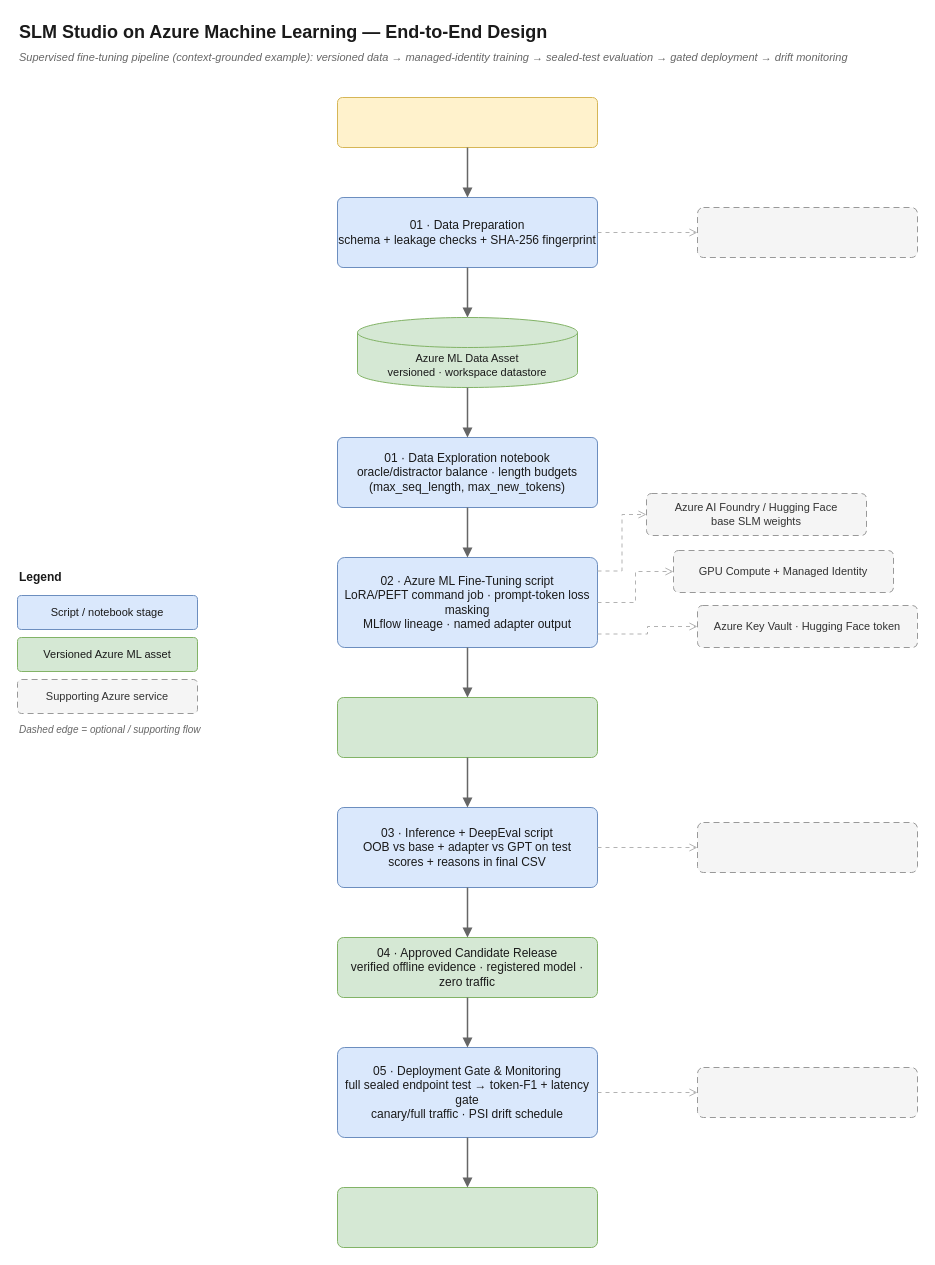
Some shapes in this 935 by 1265 pixel diagram are drawn without their labels. Here are the shapes that lost their labels. From the top down, the centre of each, then its label:
At pixel 467 122: "Local PDF / text chunks".
At pixel 807 232: "Azure OpenAI synthetic data gen (optional, billable)".
At pixel 467 727: "Training Output · Named LoRA Adapter tokenizer · not yet registered".
At pixel 807 847: "Azure OpenAI · DeepEval judge faithfulness · relevancy · correctness".
At pixel 807 1092: "MLflow tracking · PSI drift monitor".
At pixel 467 1217: "Managed Online Endpoint promoted deployment · scheduled drift job".
